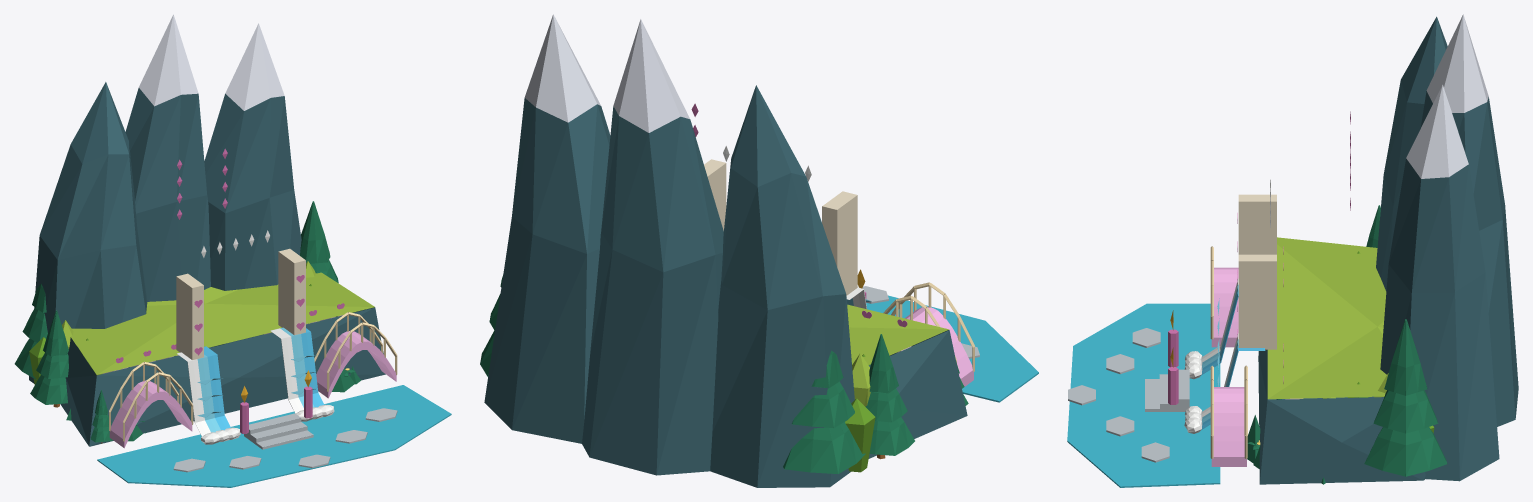
File: decoration.glb
3 views of the same model, side by side, from view 1: azimuth 30°, elevation 25°; view 2: azimuth 150°, elevation 25°; view 3: azimuth 270°, elevation 25° (orthographic). The views are drawn at different scales.
Parts seen in each view (by area): view 1: 02_School_MountainsAndTerrace, 02_School_PondAndFalls, 02_School_BridgesAndApproach, 02_R2_ReferenceSpecificPaperDetails, 02_ComparisonReview_DetailCorrections; view 2: 02_School_MountainsAndTerrace, 02_School_PondAndFalls, 02_R2_ReferenceSpecificPaperDetails, 02_School_BridgesAndApproach, 02_ComparisonReview_DetailCorrections; view 3: 02_School_MountainsAndTerrace, 02_School_PondAndFalls, 02_School_BridgesAndApproach, 02_R2_ReferenceSpecificPaperDetails.
Part boxes in pixels (bbox=[...]): 02_School_MountainsAndTerrace: bbox=[14, 14, 385, 446]; 02_School_PondAndFalls: bbox=[97, 327, 451, 487]; 02_School_BridgesAndApproach: bbox=[109, 312, 397, 472]; 02_R2_ReferenceSpecificPaperDetails: bbox=[66, 148, 361, 444]; 02_ComparisonReview_DetailCorrections: bbox=[29, 230, 344, 384]; 02_School_MountainsAndTerrace: bbox=[480, 14, 968, 487]; 02_School_PondAndFalls: bbox=[846, 287, 1038, 402]; 02_R2_ReferenceSpecificPaperDetails: bbox=[691, 103, 871, 301]; 02_School_BridgesAndApproach: bbox=[857, 269, 979, 386]; 02_ComparisonReview_DetailCorrections: bbox=[723, 146, 911, 472]; 02_School_MountainsAndTerrace: bbox=[1258, 14, 1518, 484]; 02_School_PondAndFalls: bbox=[1067, 278, 1265, 487]; 02_School_BridgesAndApproach: bbox=[1068, 246, 1247, 466]; 02_R2_ReferenceSpecificPaperDetails: bbox=[1184, 111, 1350, 484].
Size of the model in its own units: 1.44 by 1.39 by 1.44.
